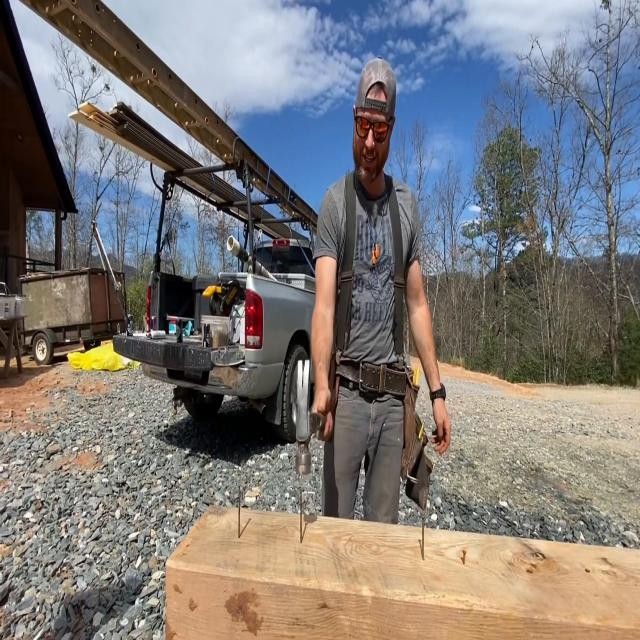hammer: (296, 359, 329, 474)
